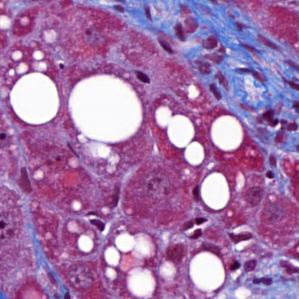inflammation: (226, 222, 259, 259), (177, 215, 213, 240), (84, 211, 113, 238), (254, 107, 283, 133), (172, 17, 189, 46)
